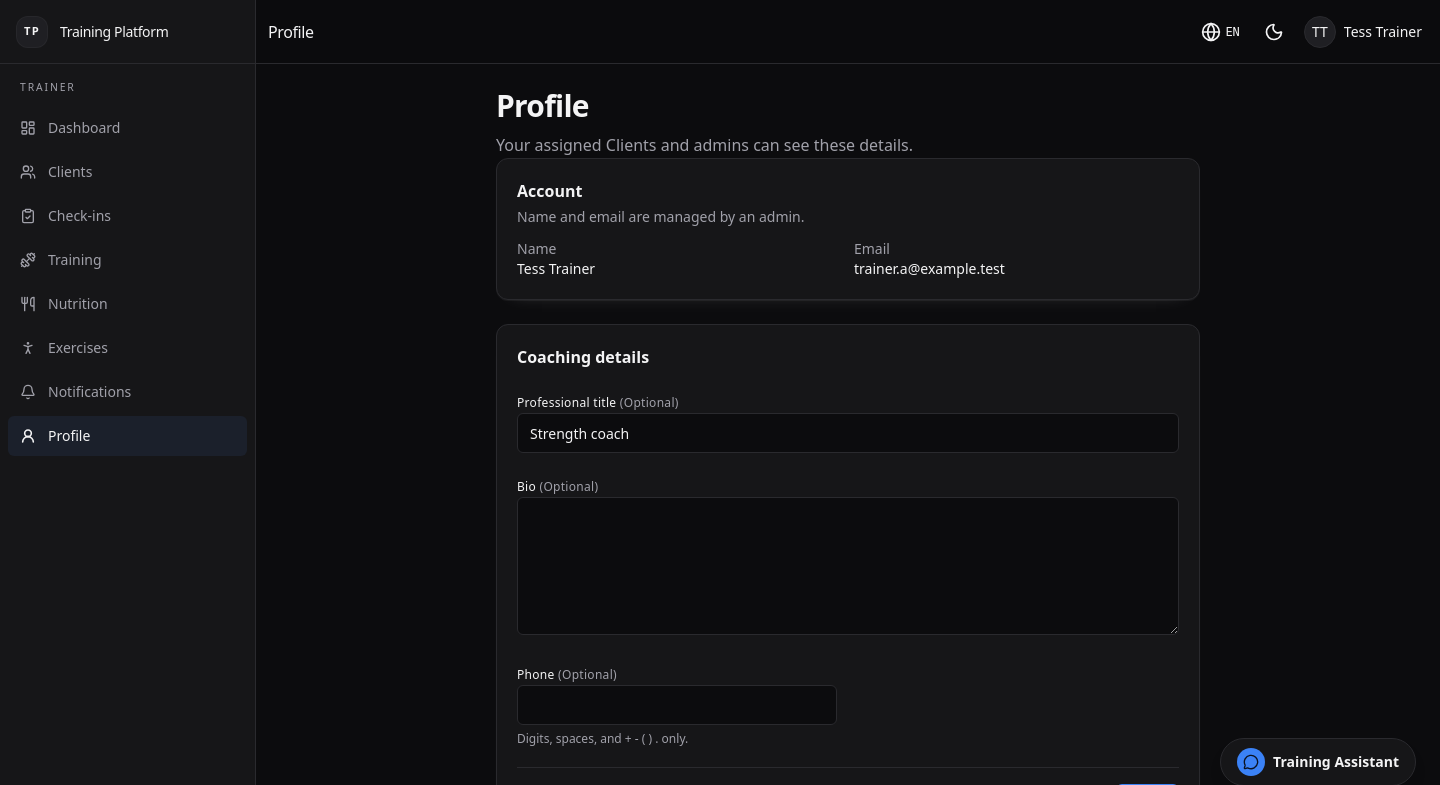
Test: Trainer profile › saves edits and clears emptied fields with null
Clear the field labelled "Professional title (Optional)" at (848,433), box [517, 413, 1179, 453]
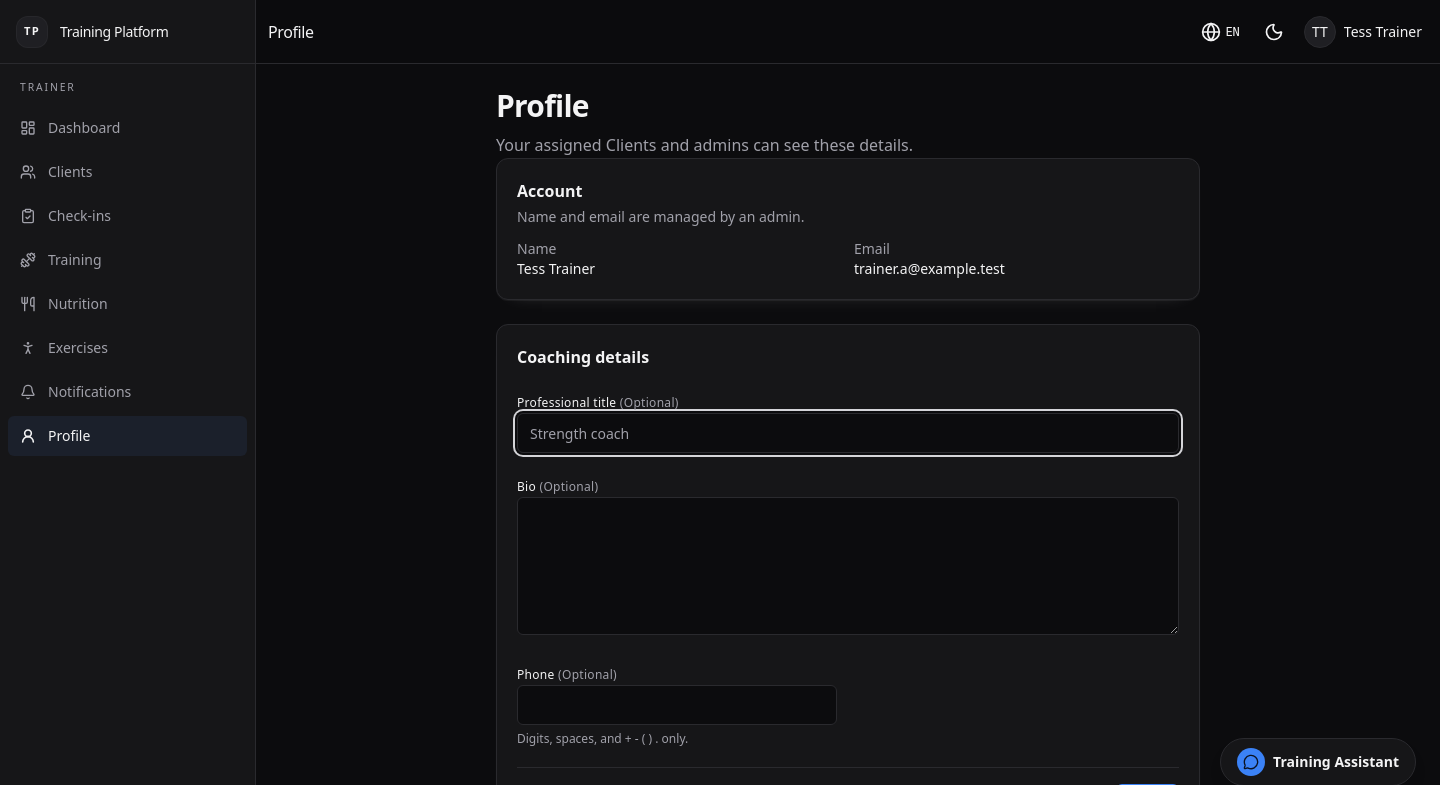
Type "  Coaching since 2015.  " into the text box labelled "Bio (Optional)".
click(848, 566); type("  Coaching since 2015.  ")  # box [517, 497, 1179, 635]
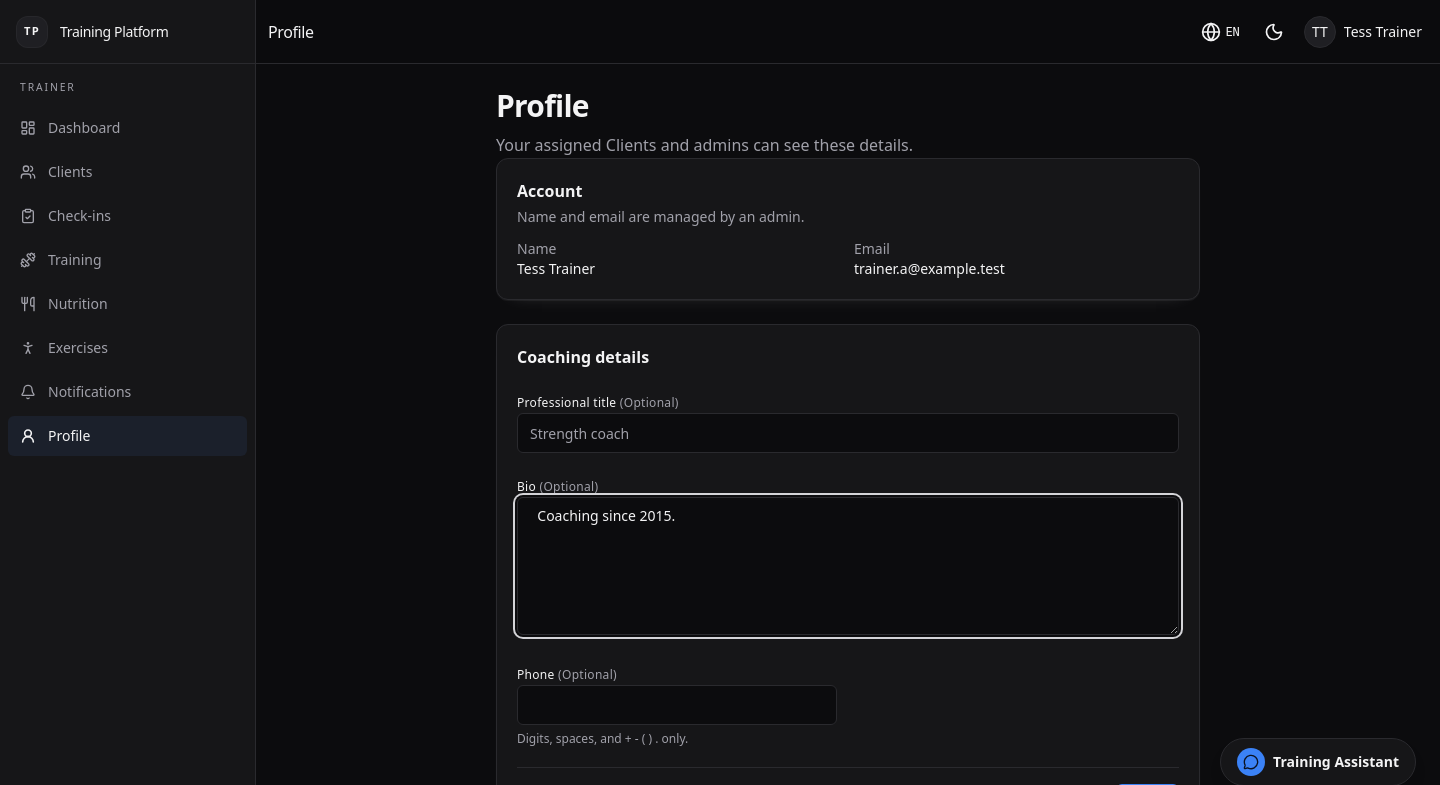
Type "+34 600 000 000" into the field labelled "Phone (Optional)".
click(677, 705); type("+34 600 000 000")  # box [517, 685, 837, 725]
(page scrolled)
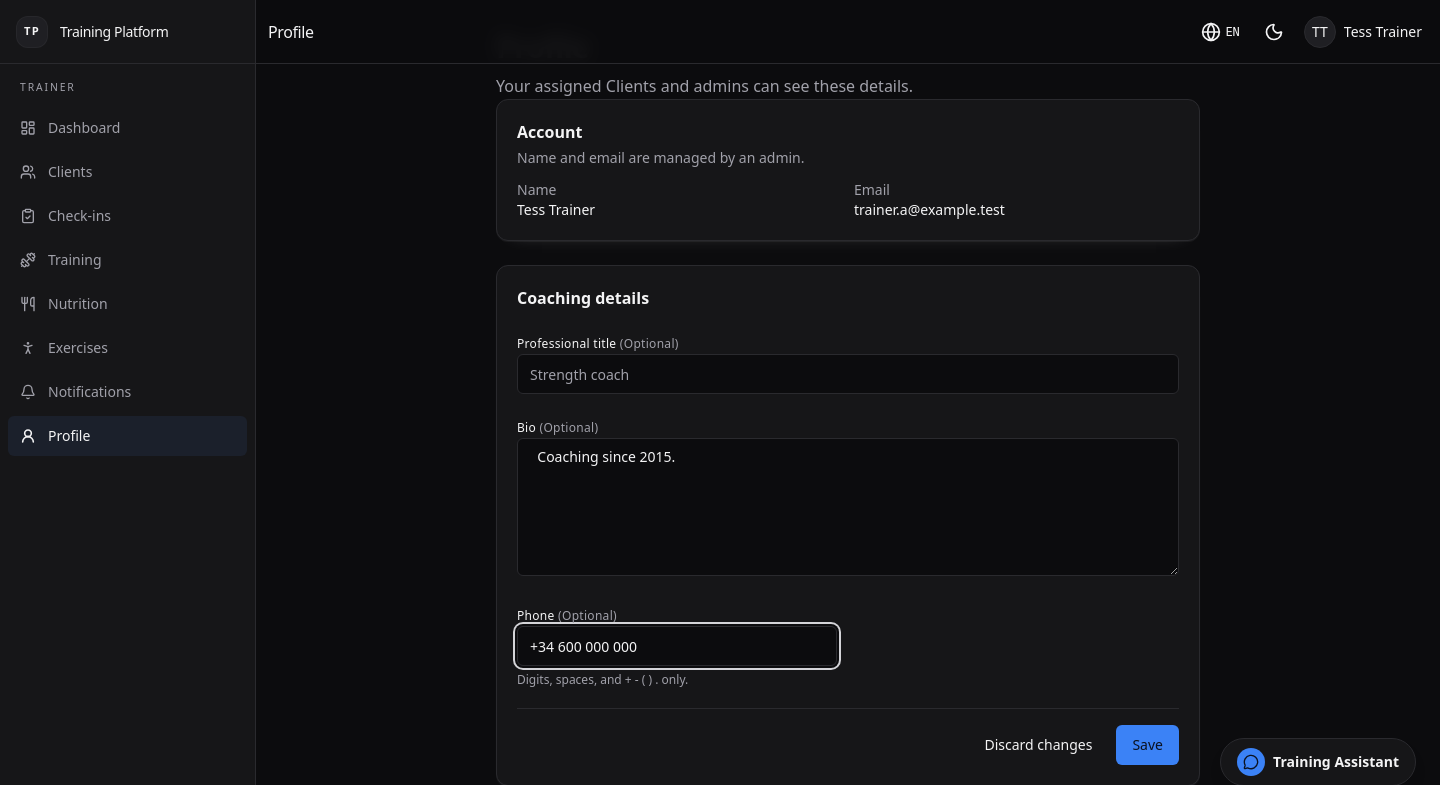
Click the button "Save".
click(1148, 745)  # box [1116, 725, 1179, 765]
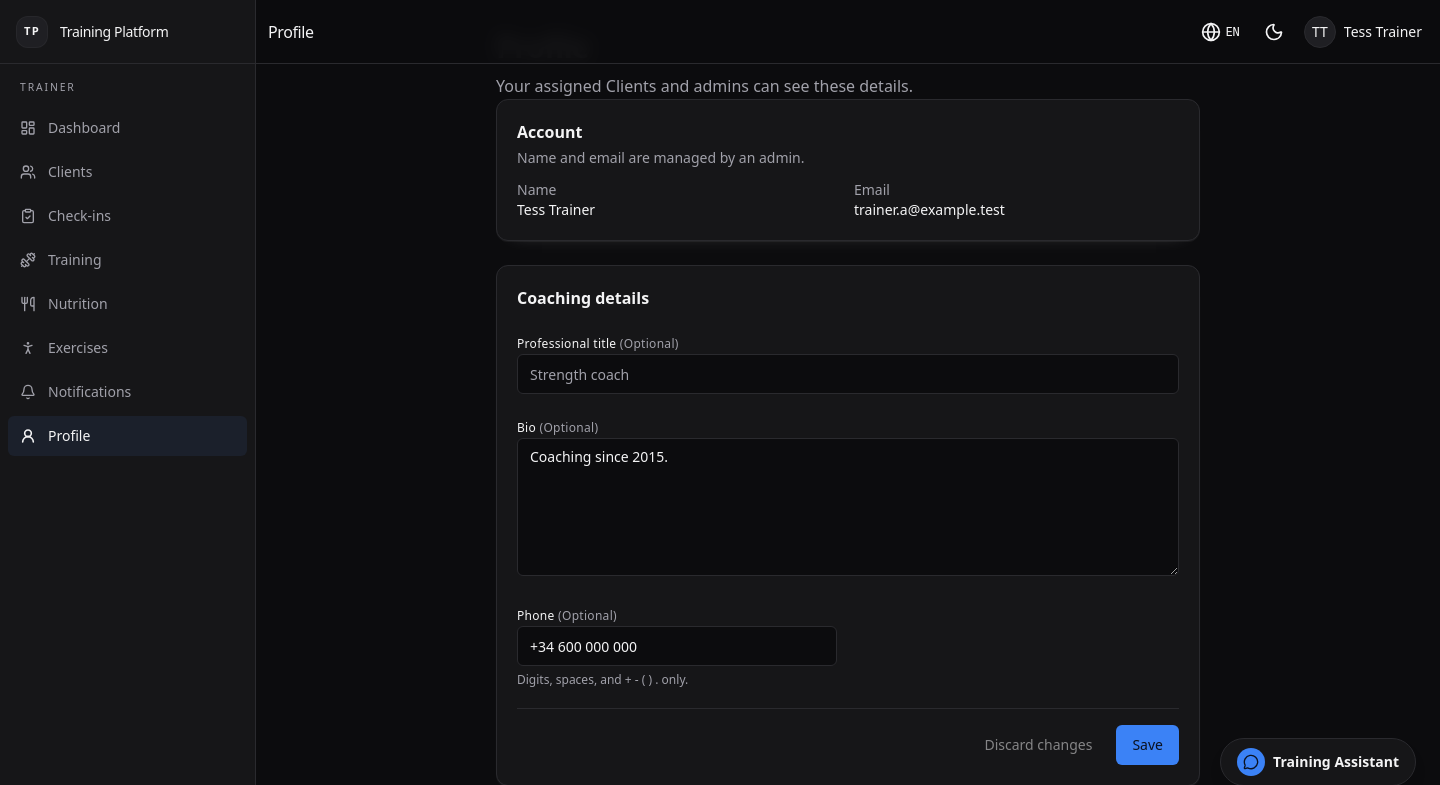
Check: the text box labelled "Bio (Optional)" holds "Coaching since 2015.", box [517, 438, 1179, 576]
Check: the button "Discard changes" is disabled, box [968, 725, 1108, 765]
